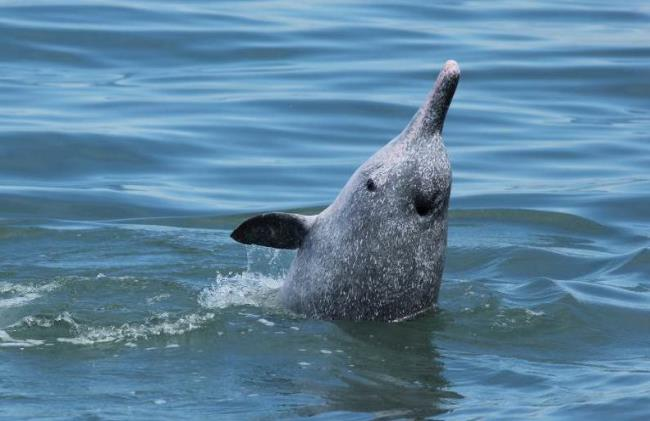fin: (223, 41, 471, 343)
